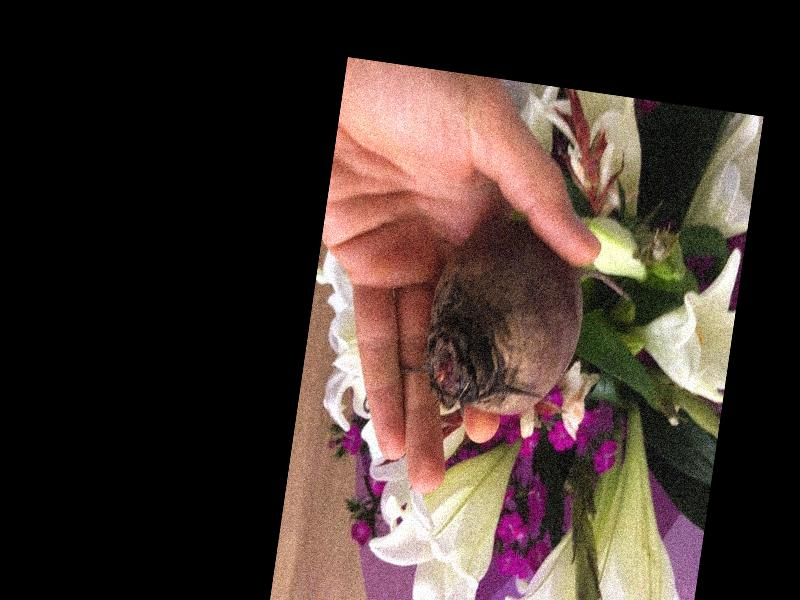Beet: (417, 210, 641, 431)
